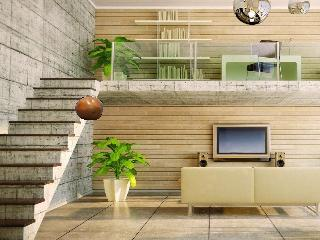potato: (74, 92, 104, 124)
